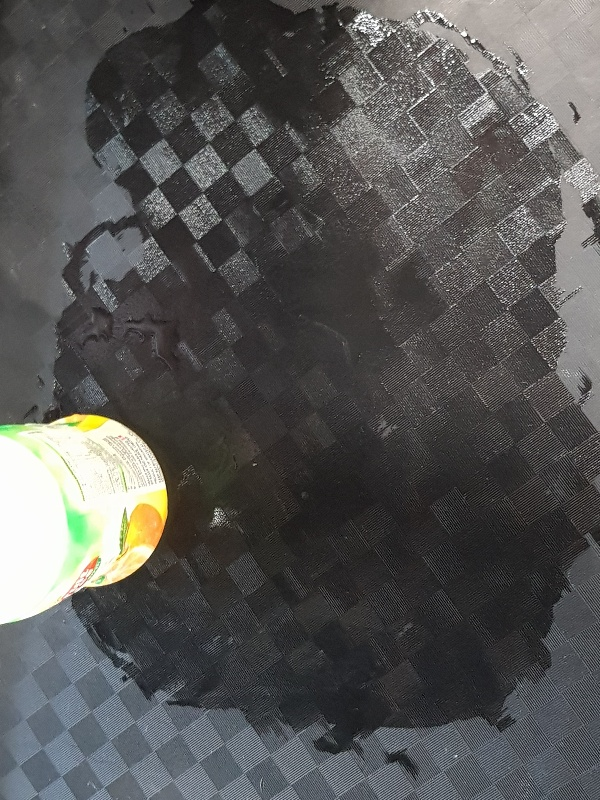Fruit Tree Yuzu Mixed Juice Drink: (1, 408, 169, 625)
